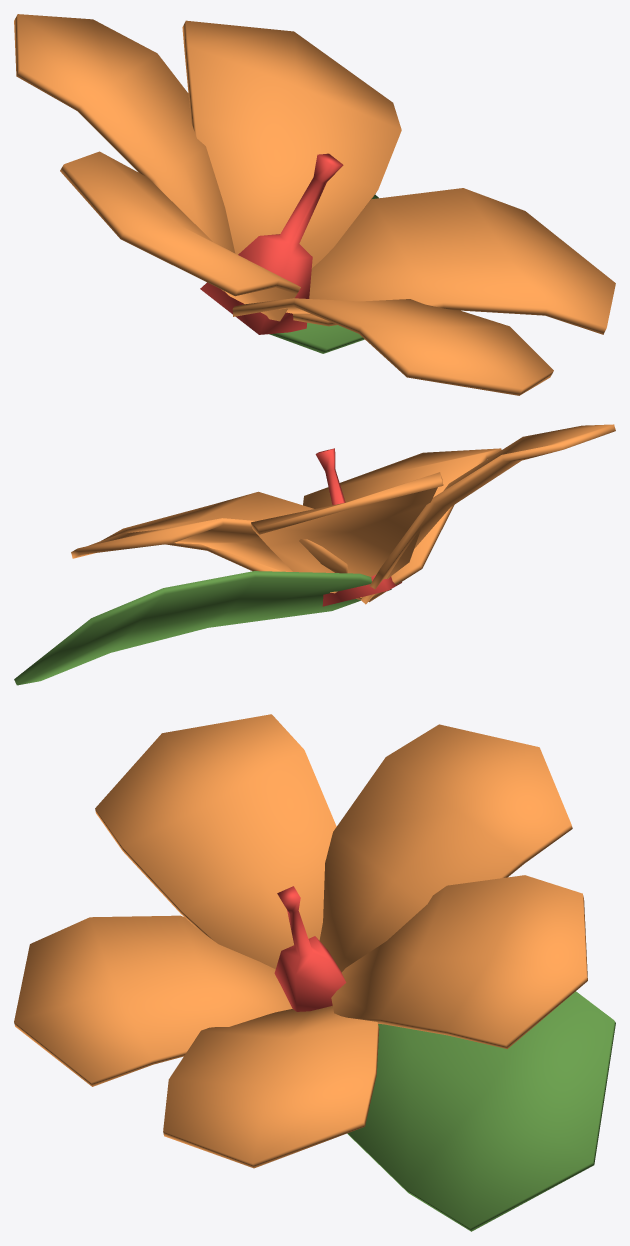
File: yellowflower.fbx
3 views of the same model, one above another, from view 1: azimuth 30°, elevation 25°; view 2: azimuth 150°, elevation 25°; view 3: azimuth 270°, elevation 25° (orthographic). The views are drawn at different scales.
Parts seen in each view (by area): view 1: flower_yellow; view 2: flower_yellow; view 3: flower_yellow.
Part boxes in pixels (bbox=[...]): flower_yellow: bbox=[14, 14, 615, 395]; flower_yellow: bbox=[14, 424, 615, 685]; flower_yellow: bbox=[14, 714, 615, 1231].
Size of the model in its own units: 19.27 by 11.66 by 20.78.
